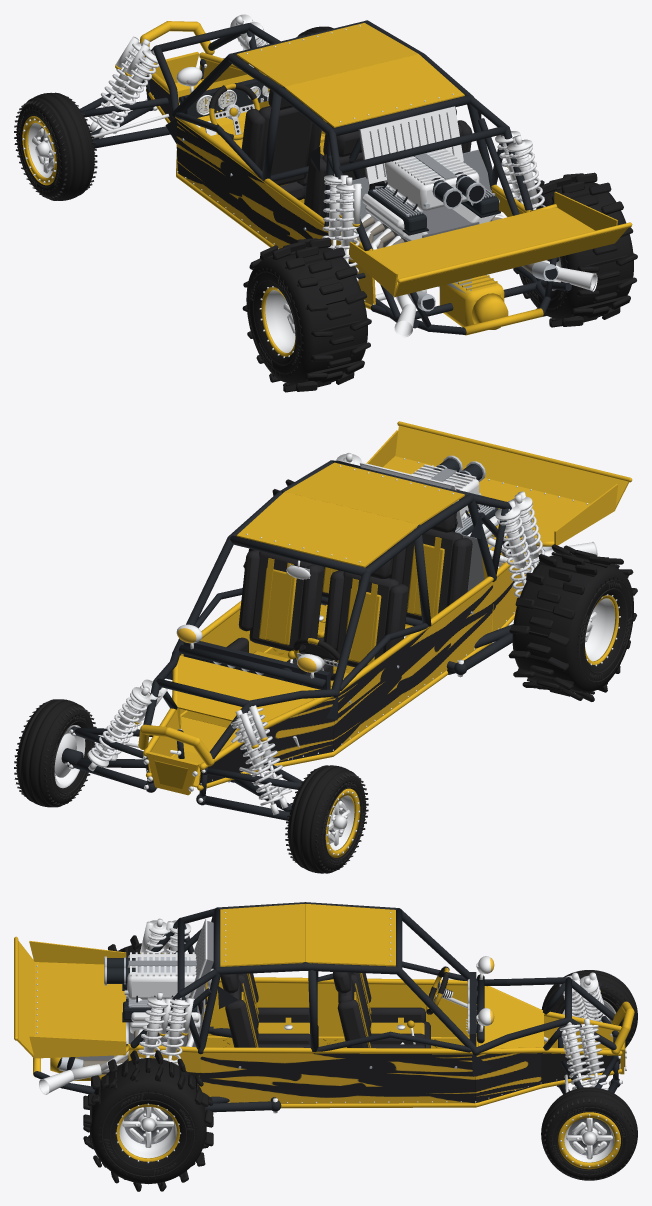
The model's file is sandcar.glb.
3 views of the same model, one above another, from view 1: azimuth 30°, elevation 25°; view 2: azimuth 150°, elevation 25°; view 3: azimuth 270°, elevation 25° (orthographic). The views are drawn at different scales.
Visible parts, largest first — view 1: Chassis_Mesh, Wheel_RL_Mesh, Wheel_RR_Mesh, Wheel_FL_Mesh, Shock_FL_Mesh, Shock_RL_2_Mesh, Shock_RR_2_Mesh, Shock_FL_2_Mesh, SteeringWheel_Mesh, Shock_RL_Mesh, Link_FL_Lower_0, Shock_RR_Mesh (+1 smaller); view 2: Chassis_Mesh, Wheel_RL_Mesh, Wheel_FL_Mesh, Wheel_FR_Mesh, Shock_FR_2_Mesh, Shock_RL_Mesh, Shock_FL_2_Mesh, Shock_FL_Mesh, Shock_RL_2_Mesh, Link_FL_Lower_2, Link_FR_Lower_2, Link_RL_Lower_2 (+1 smaller); view 3: Chassis_Mesh, Wheel_RR_Mesh, Wheel_FR_Mesh, Wheel_FL_Mesh, Shock_RR_2_Mesh, Shock_RR_Mesh, Shock_FR_2_Mesh, Shock_FR_Mesh, Link_RR_Lower_2, Shock_RL_2_Mesh, Shock_FL_2_Mesh, SteeringWheel_Mesh (+2 smaller).
Boxes of the visible parts, x1,y1,x2,y2 form: Chassis_Mesh: [140, 20, 632, 337]; Wheel_RL_Mesh: [242, 237, 371, 392]; Wheel_RR_Mesh: [513, 172, 637, 327]; Wheel_FL_Mesh: [14, 92, 97, 200]; Shock_FL_Mesh: [96, 43, 159, 138]; Shock_RL_2_Mesh: [334, 177, 361, 281]; Shock_RR_2_Mesh: [507, 135, 545, 210]; Shock_FL_2_Mesh: [89, 36, 150, 132]; SteeringWheel_Mesh: [209, 83, 260, 140]; Shock_RL_Mesh: [322, 174, 348, 253]; Link_FL_Lower_0: [92, 126, 170, 148]; Shock_RR_Mesh: [495, 131, 523, 204]; Chassis_Mesh: [138, 421, 632, 796]; Wheel_RL_Mesh: [508, 544, 637, 701]; Wheel_FL_Mesh: [285, 765, 368, 873]; Wheel_FR_Mesh: [14, 699, 96, 807]; Shock_FR_2_Mesh: [87, 686, 157, 771]; Shock_RL_Mesh: [495, 500, 533, 597]; Shock_FL_2_Mesh: [230, 710, 282, 814]; Shock_FL_Mesh: [247, 705, 291, 808]; Shock_RL_2_Mesh: [511, 491, 544, 575]; Link_FL_Lower_2: [196, 794, 289, 820]; Link_FR_Lower_2: [65, 760, 157, 792]; Link_RL_Lower_2: [454, 632, 512, 677]; Chassis_Mesh: [14, 902, 634, 1108]; Wheel_RR_Mesh: [83, 1050, 213, 1191]; Wheel_FR_Mesh: [541, 1087, 637, 1180]; Wheel_FL_Mesh: [541, 970, 637, 1047]; Shock_RR_2_Mesh: [137, 992, 172, 1058]; Shock_RR_Mesh: [160, 997, 193, 1065]; Shock_FR_2_Mesh: [578, 1018, 608, 1090]; Shock_FR_Mesh: [559, 1022, 590, 1089]; Link_RR_Lower_2: [206, 1098, 281, 1113]; Shock_RL_2_Mesh: [140, 918, 168, 953]; Shock_FL_2_Mesh: [579, 972, 608, 1022]; SteeringWheel_Mesh: [426, 966, 453, 1014].
Bounding box in the file's own units: 2.59 × 1.6 × 4.77.
Materials: 26 (2 with a texture image).
